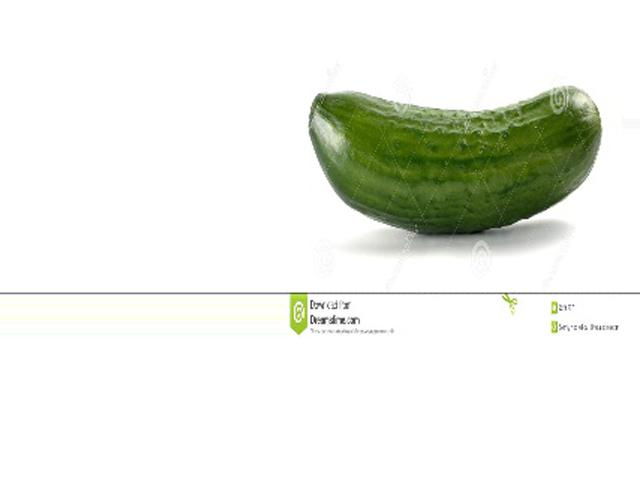cucumber: (310, 90, 601, 234)
